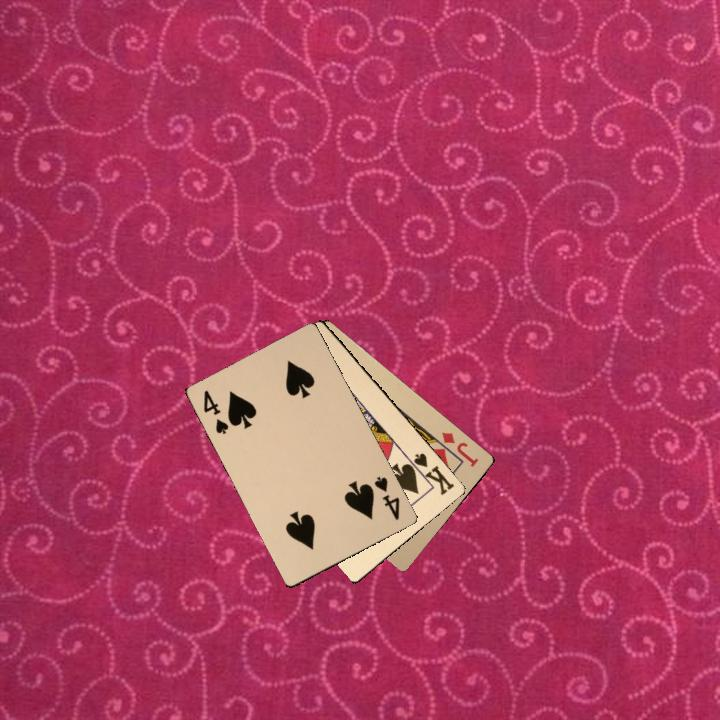4s: (370, 472, 402, 523), (199, 386, 231, 437)
Jd: (438, 428, 481, 470)
Ks: (406, 449, 457, 498)
